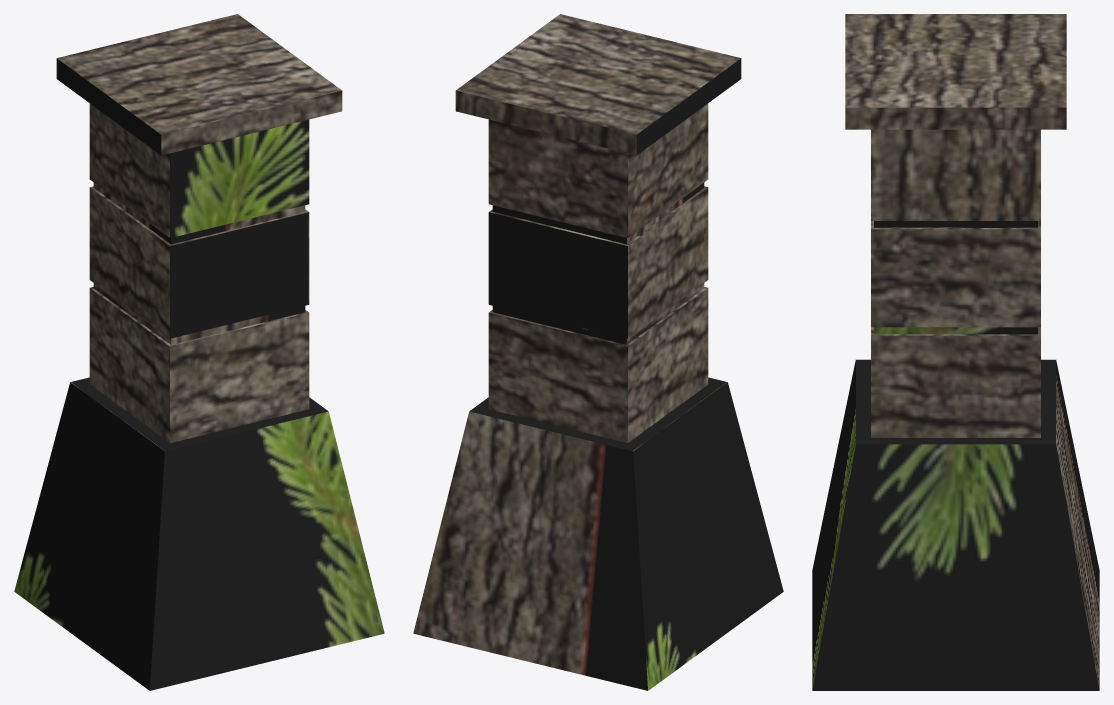
The model's file is columna2.gltf.
3 renders of one model, left to right at view 1: azimuth 30°, elevation 25°; view 2: azimuth 150°, elevation 25°; view 3: azimuth 270°, elevation 25°, orthographic. The views are drawn at different scales.
Parts seen in each view (by area): view 1: Fence_Column2.002; view 2: Fence_Column2.002; view 3: Fence_Column2.002.
Boxes of the visible parts, <box> form: Fence_Column2.002: <box>14,14,384,690</box>; Fence_Column2.002: <box>413,14,783,690</box>; Fence_Column2.002: <box>812,14,1099,690</box>.
Size of the model in its own units: 1.18 by 2.59 by 1.18.
